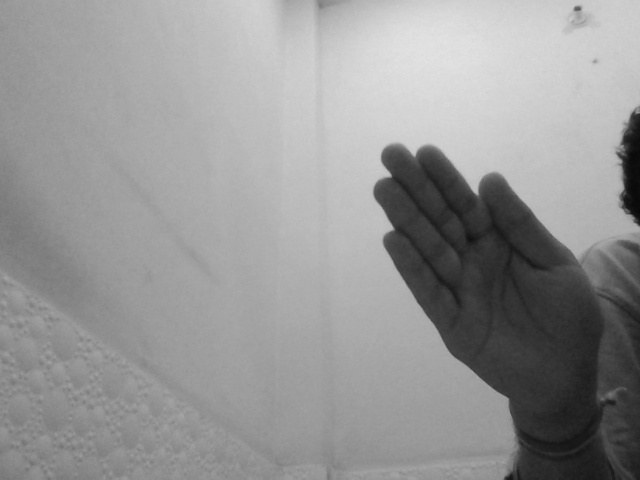Hello: (374, 143, 606, 414)
